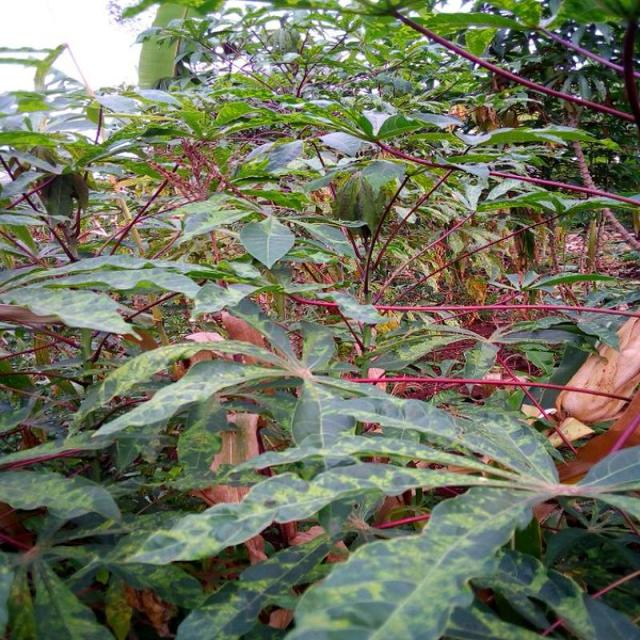cassava leaf: (2, 4, 640, 638)
